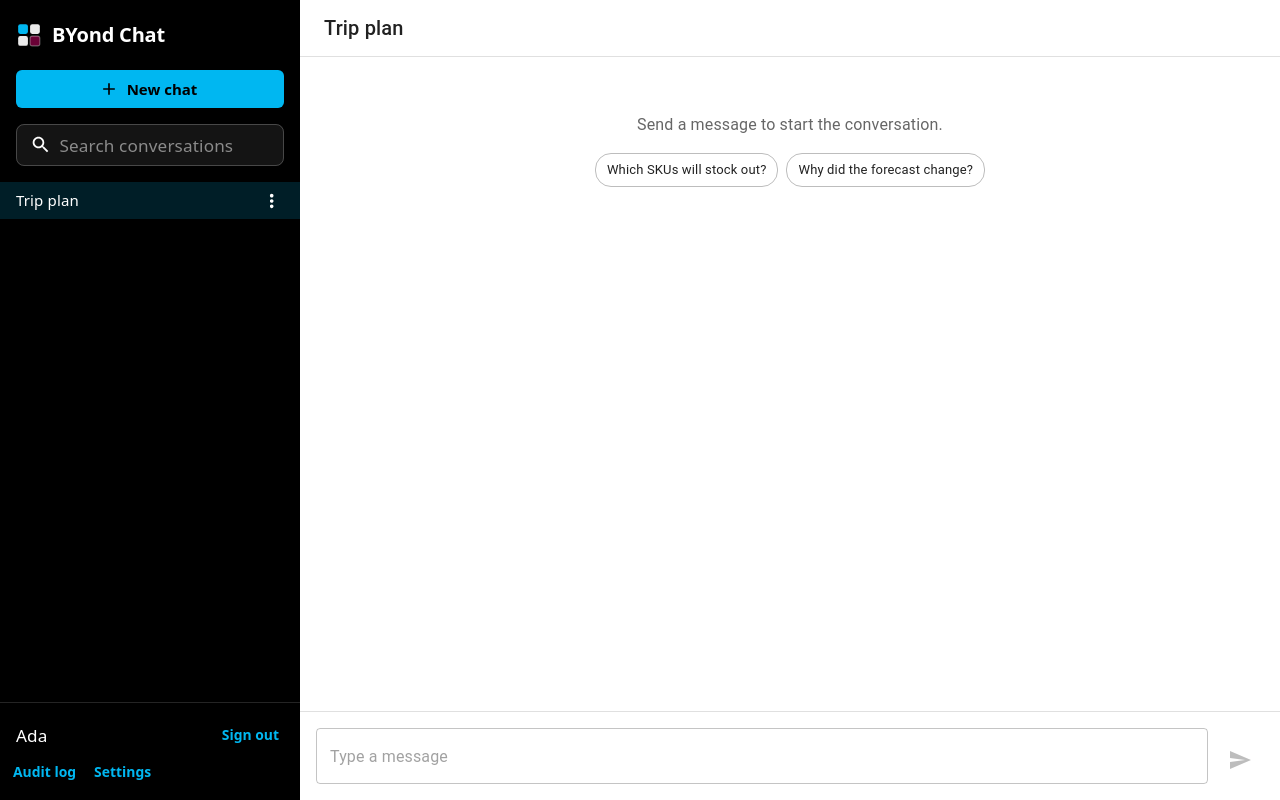
Test: chat › Stop aborts the request, and the partial reply is kept as 'Stopped'
In the text box labelled "message": (762, 756) [330, 744, 1194, 768], type "Tell me a story"
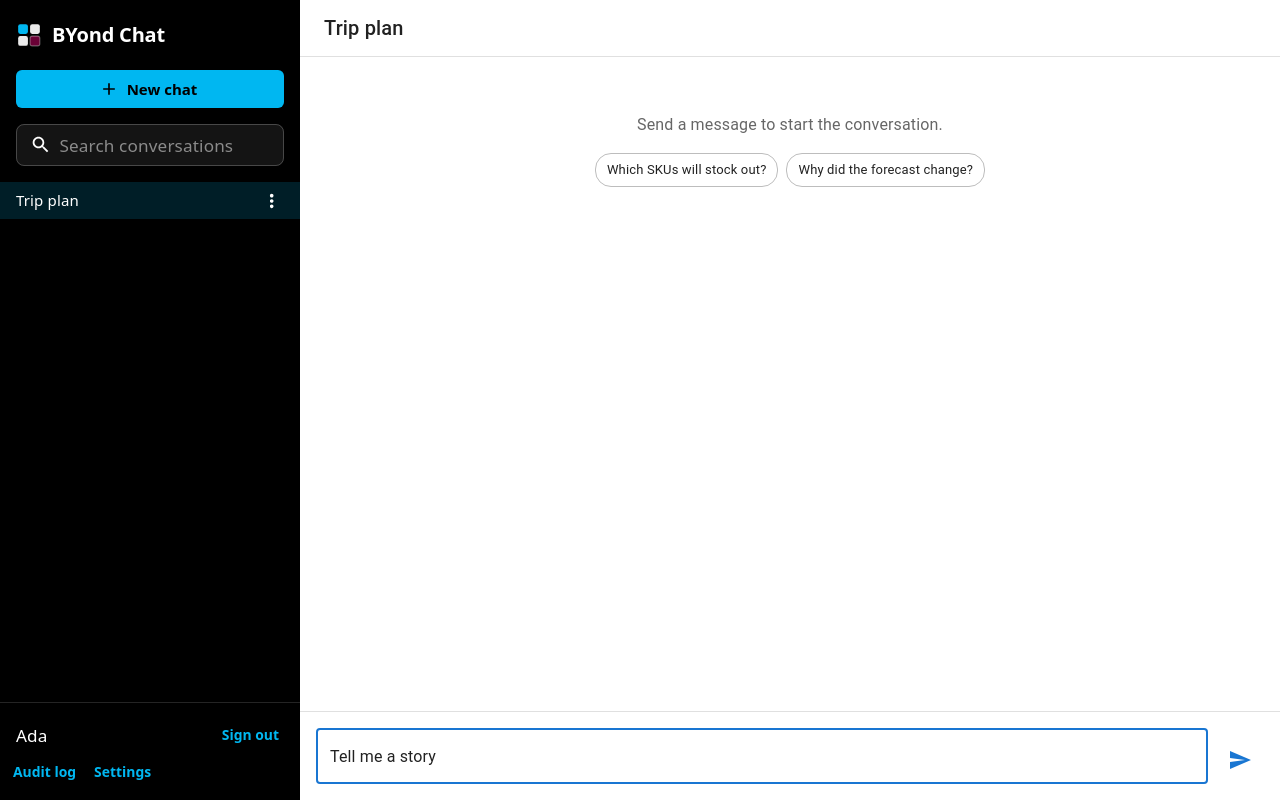
Click the button named "Send message": click(1240, 760) [1216, 736, 1264, 784]
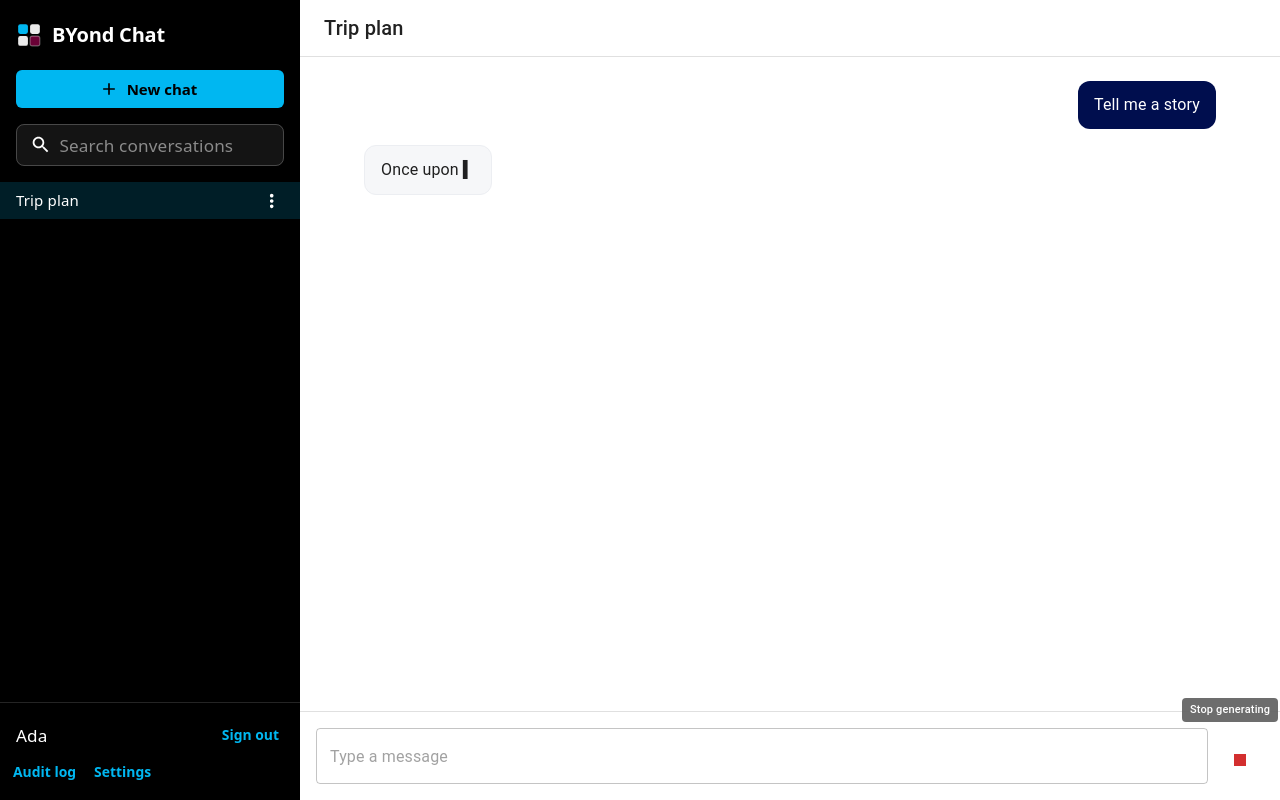
Expected: the text "Once upon ▍" is shown, [381, 158, 475, 182]
Click the button named "Stop generating": click(1240, 760) [1216, 736, 1264, 784]
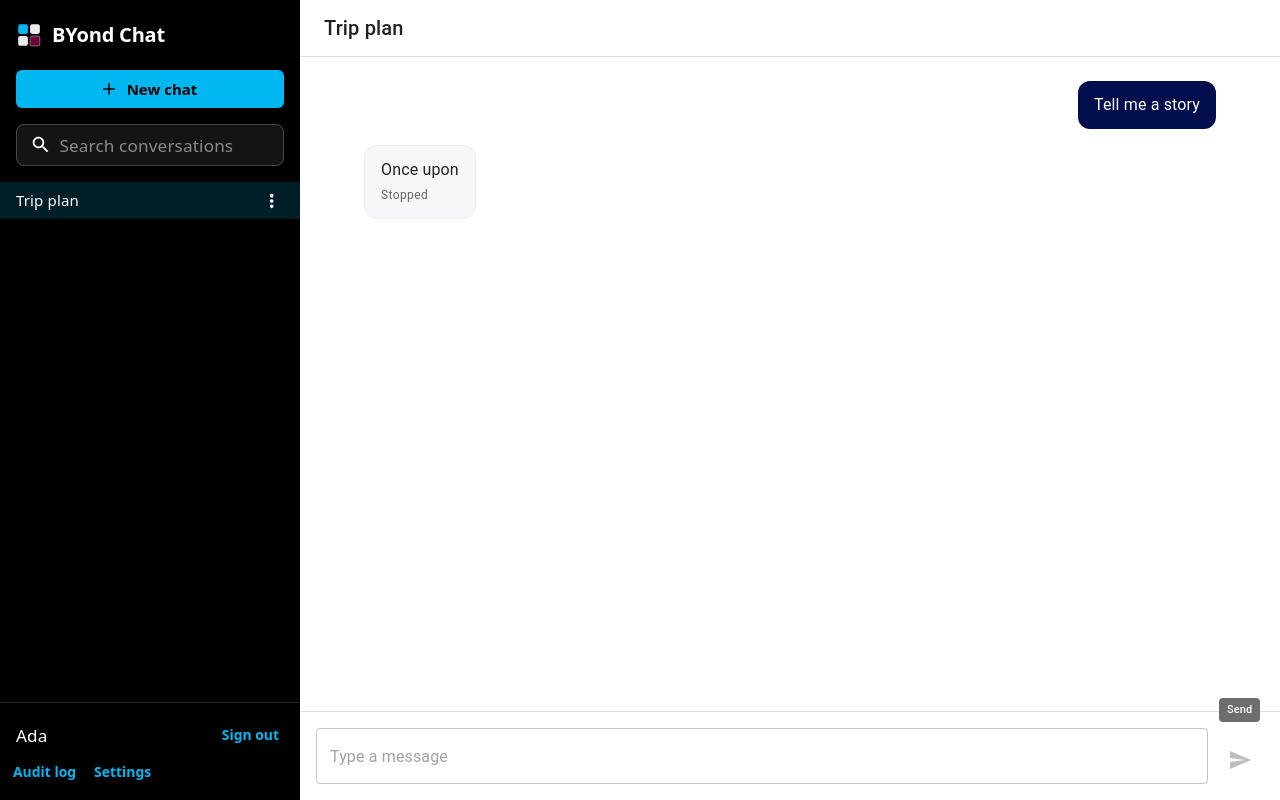
Expected: the text "Once upon" is shown, [381, 158, 459, 182]
Expected: the text "Stopped" is shown, [381, 188, 428, 202]
Expected: the button named "Send message" is shown, [1216, 736, 1264, 784]
